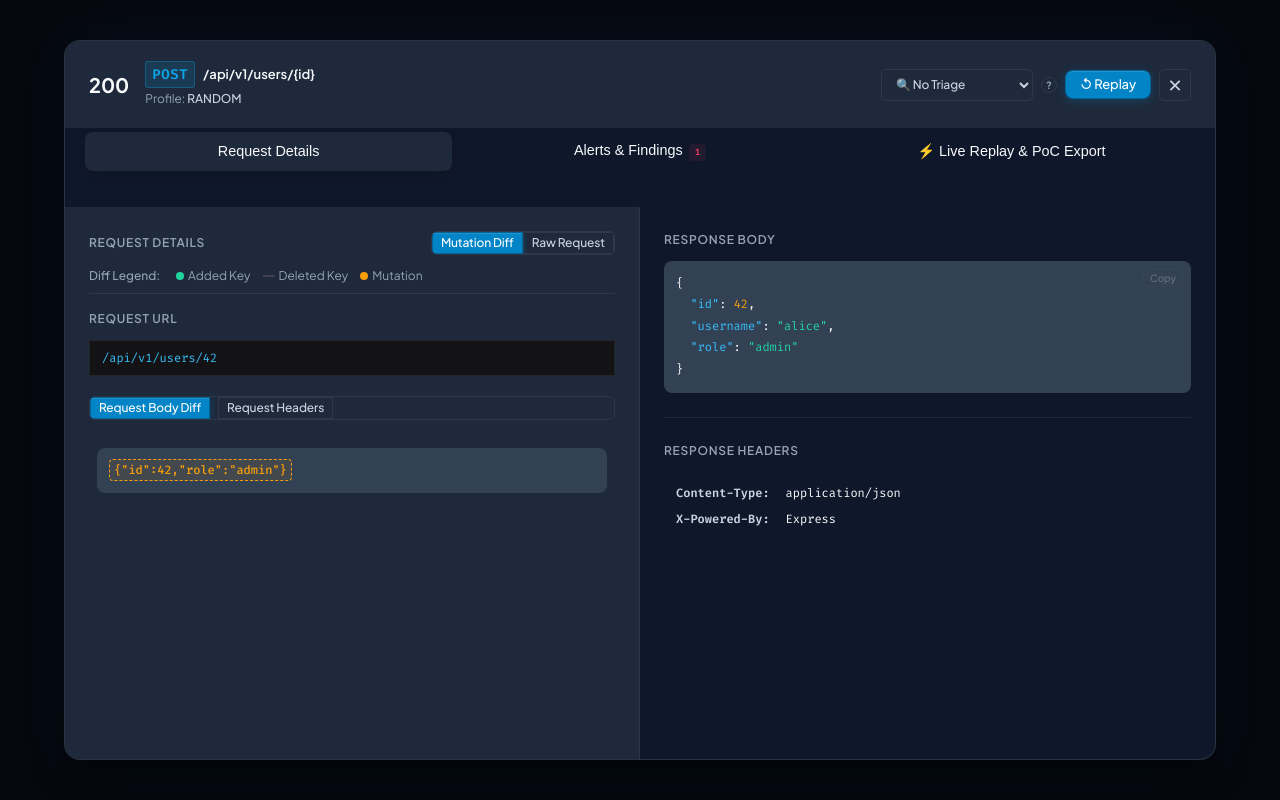
Test case: RequestDetail Component › switches between Mutation Diff and Raw Request views
Expected: the text "Diff Legend:" is shown, x1=89 y1=267 x2=160 y2=285
Click the button "Raw Request". click: (568, 243)
box: x1=523 y1=232 x2=614 y2=254
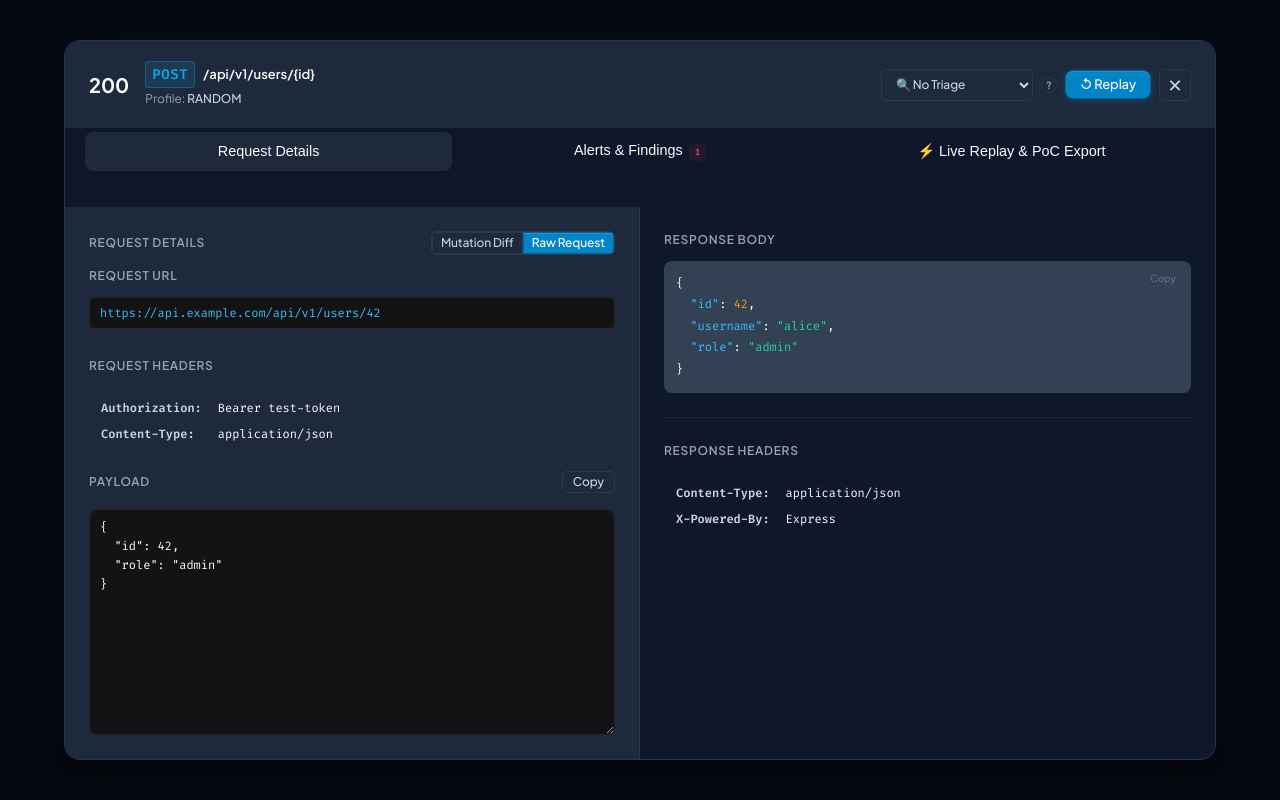
Expected: the text "Payload" is shown, x1=89 y1=473 x2=150 y2=491
Expected: the text box showing "\"role\": \"admin\"" is shown, x1=89 y1=509 x2=615 y2=735
